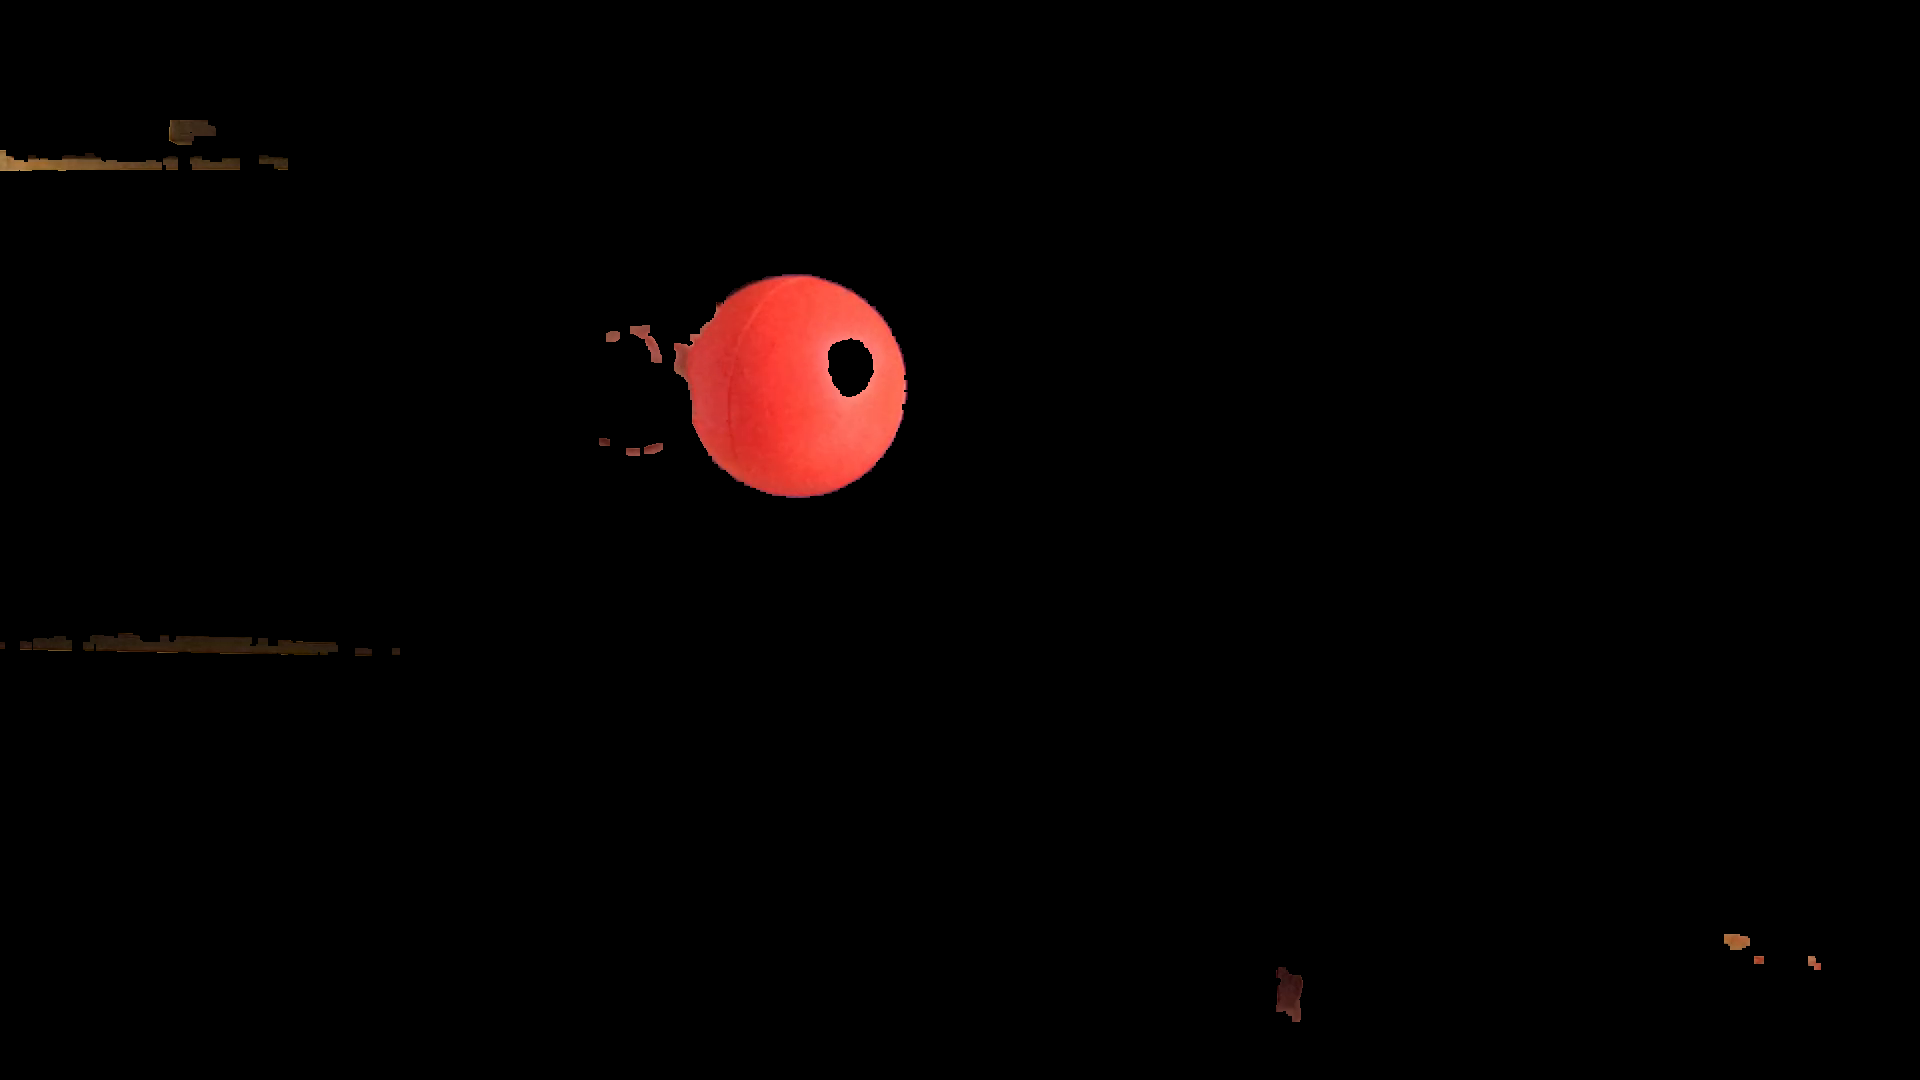Ball: (688, 272, 909, 502)
